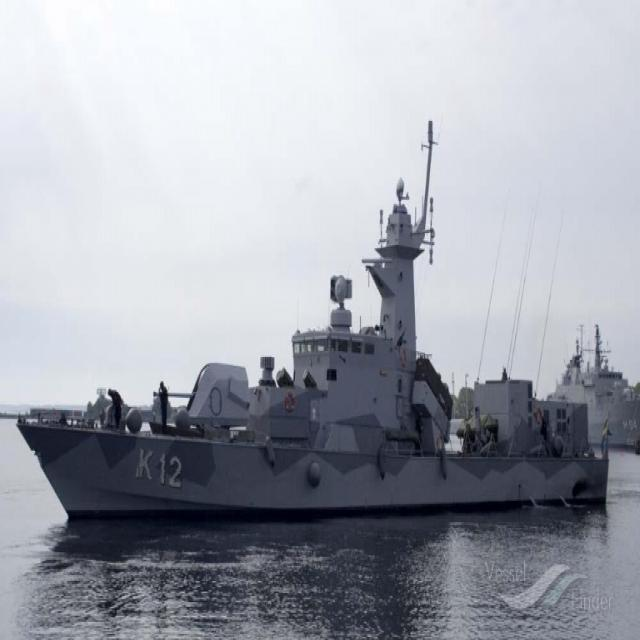OCR: (135, 444, 183, 494)
